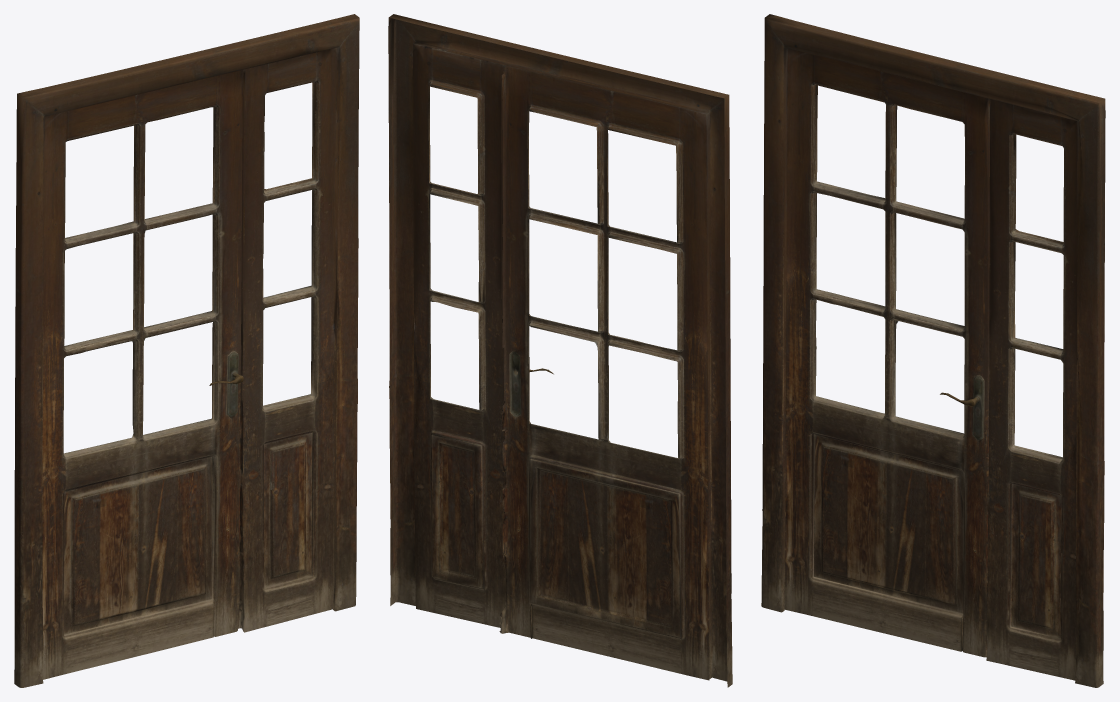
The picture shows the model from 3 angles, left to right: view 1: azimuth 30°, elevation 25°; view 2: azimuth 150°, elevation 25°; view 3: azimuth 330°, elevation 25°; orthographic projection.
Parts seen in each view (by area): view 1: wbdjciudw_LOD0_TIER2_000; view 2: wbdjciudw_LOD0_TIER2_000; view 3: wbdjciudw_LOD0_TIER2_000.
Boxes of the visible parts, bbox=[...] form: wbdjciudw_LOD0_TIER2_000: bbox=[14, 14, 359, 687]; wbdjciudw_LOD0_TIER2_000: bbox=[388, 14, 732, 687]; wbdjciudw_LOD0_TIER2_000: bbox=[761, 14, 1105, 687].
Bounding box in the file's own units: 1.41 × 2.33 × 0.0913.
1 material, 1 textured.
